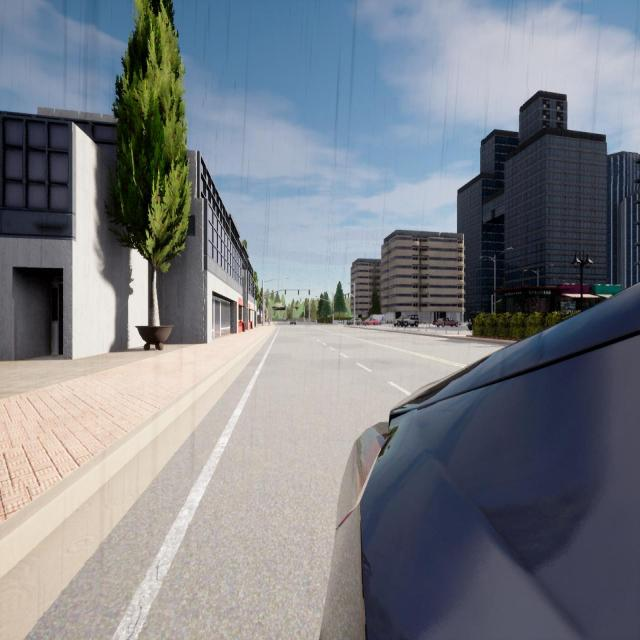Pedestrian: (268, 318, 270, 326)
Vehicle: (321, 284, 639, 638), (394, 315, 418, 327), (436, 317, 458, 327), (364, 314, 384, 325), (347, 318, 361, 325), (468, 314, 473, 330), (290, 319, 296, 325)
traffic_light: (308, 290, 310, 295), (332, 310, 334, 314), (300, 298, 302, 302), (317, 299, 319, 302), (298, 290, 299, 295), (345, 294, 346, 299), (285, 290, 286, 294), (308, 298, 309, 302), (348, 294, 349, 298)
